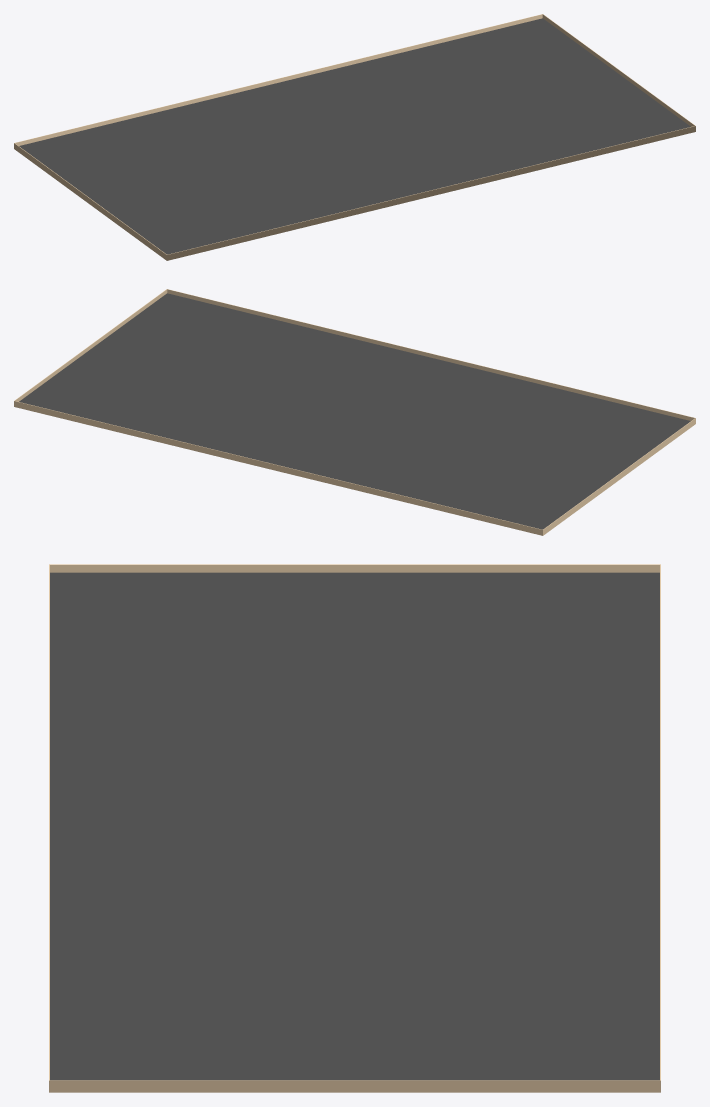
File: arena_rectangle_1.obj
3 renders of one model, top to bottom at view 1: azimuth 30°, elevation 25°; view 2: azimuth 150°, elevation 25°; view 3: azimuth 270°, elevation 25°, orthographic. The views are drawn at different scales.
Bounding box in the file's own units: 280 × 3 × 140.
1 material, 1 textured.
